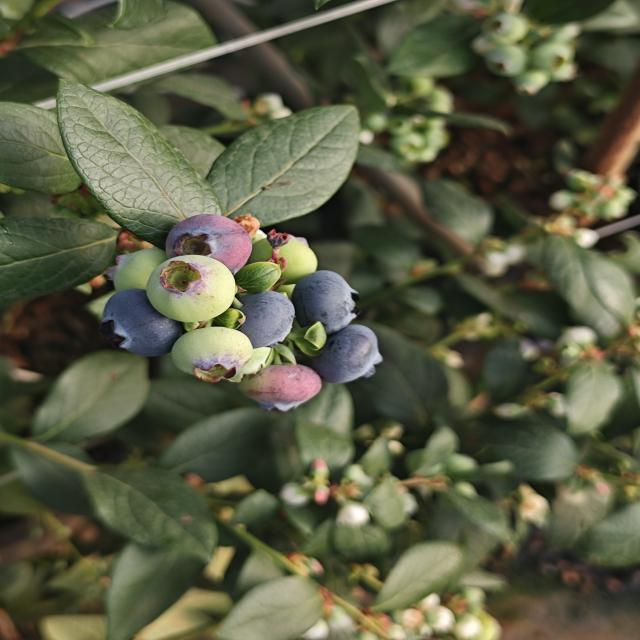ripe: (96, 287, 182, 359), (163, 212, 254, 275), (297, 263, 361, 333), (244, 277, 295, 335), (322, 319, 377, 372)
